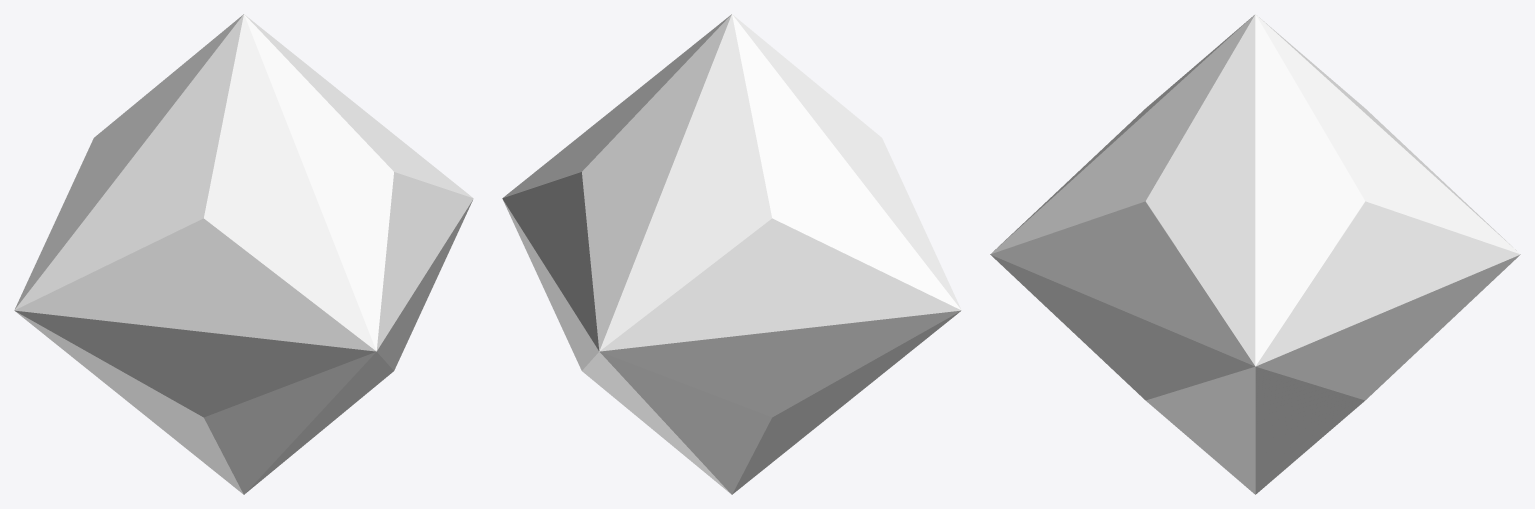
The model's file is triakis-octahedron.gltf.
3 renders of one model, left to right at view 1: azimuth 30°, elevation 25°; view 2: azimuth 150°, elevation 25°; view 3: azimuth 270°, elevation 25°, orthographic.
Parts seen in each view (by area): view 1: Triakisocta; view 2: Triakisocta; view 3: Triakisocta.
Boxes of the visible parts, <box> form: Triakisocta: <box>14,14,473,494</box>; Triakisocta: <box>502,14,961,494</box>; Triakisocta: <box>990,14,1520,494</box>.
Size of the model in its own units: 13.57 by 13.57 by 13.57.
Materials: 1 (1 with a texture image).
